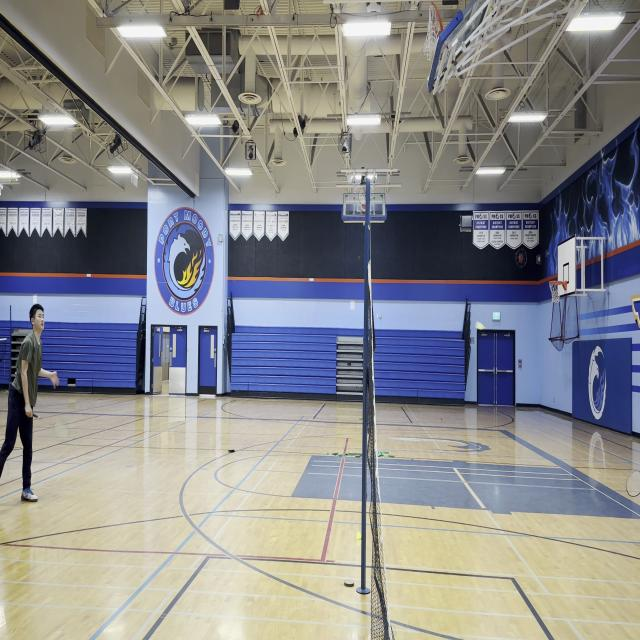shuttlecock: (476, 321, 486, 332)
